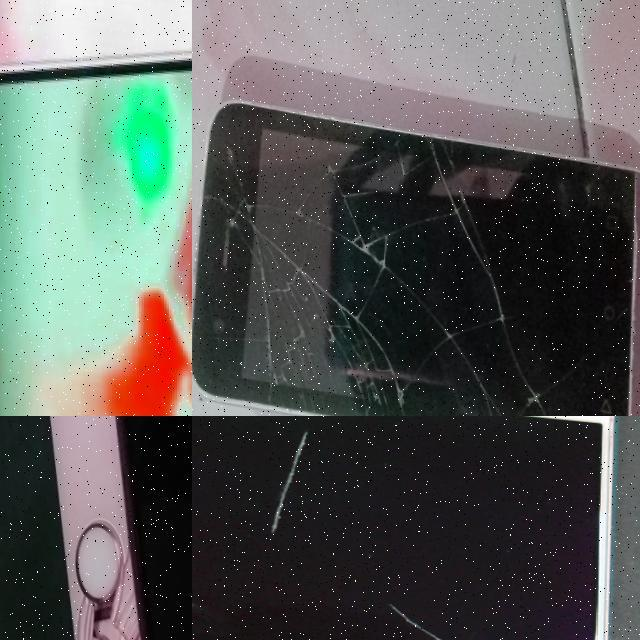scratch: (385, 592, 532, 640), (264, 422, 308, 531)
screen crack: (192, 96, 581, 416), (43, 512, 182, 640)
